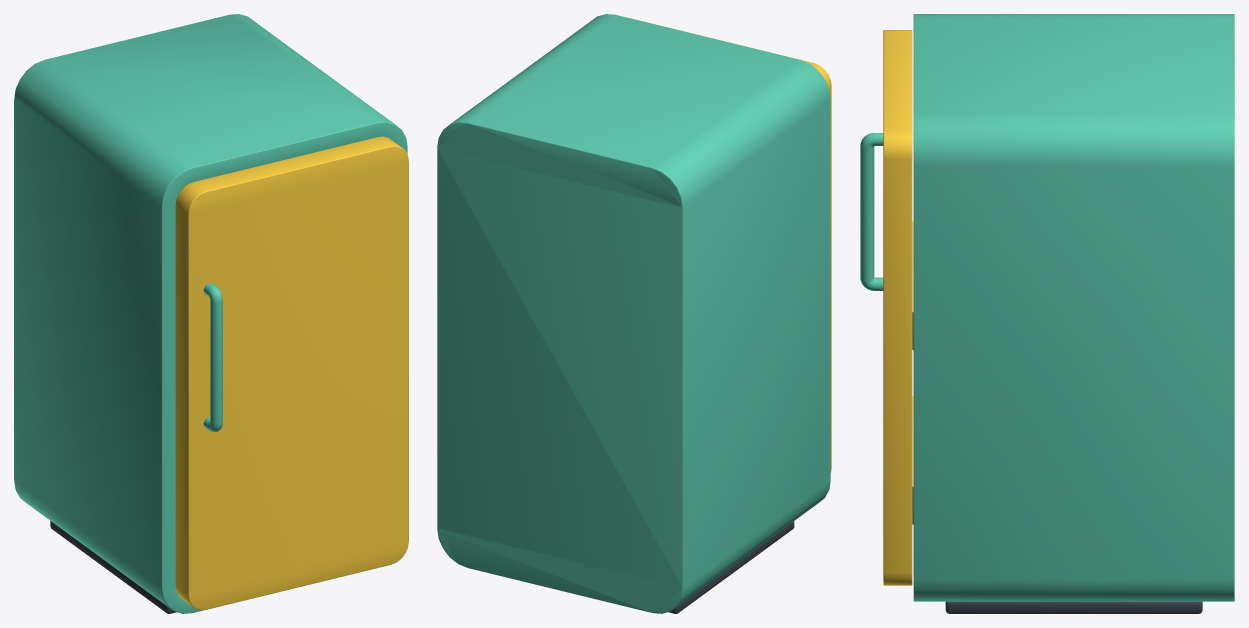
The model's file is frigobar_bicolor_amarelo.glb.
The picture shows the model from 3 angles, left to right: view 1: azimuth 30°, elevation 25°; view 2: azimuth 150°, elevation 25°; view 3: azimuth 270°, elevation 25°; orthographic projection. The views are drawn at different scales.
Parts seen in each view (by area): view 1: frigobar_bicolor_amarelo, porta; view 2: frigobar_bicolor_amarelo, porta; view 3: frigobar_bicolor_amarelo, porta.
Boxes of the visible parts, x1,y1,x2,y2 form: frigobar_bicolor_amarelo: (14, 14, 407, 613); porta: (175, 136, 408, 610); frigobar_bicolor_amarelo: (437, 14, 830, 613); porta: (639, 20, 831, 472); frigobar_bicolor_amarelo: (913, 14, 1234, 613); porta: (860, 30, 913, 585).
Size of the model in its own units: 0.48 by 0.85 by 0.583.
Materials: 1 (1 with a texture image).
